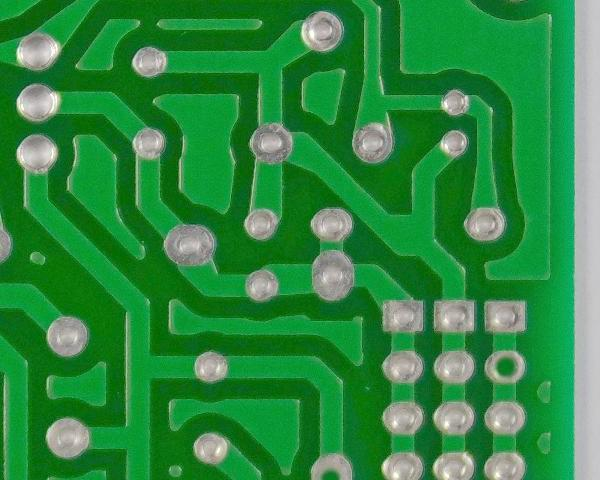missing hole: (481, 348, 529, 385), (305, 451, 358, 479)
